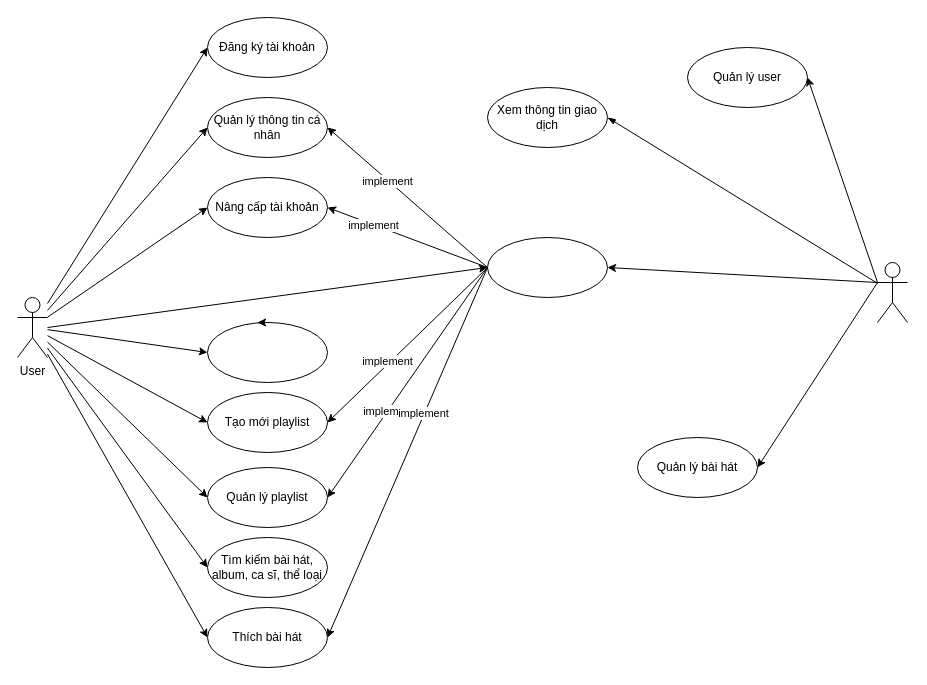
Some shapes in this 927 by 685 pixel diagram are drawn without their labels. The box of each missing label's shape, as (x1, y1, x2, y2) in pixels:
Admin: (876, 262, 908, 322)
Nghe nhạc: (206, 322, 328, 382)
Đăng nhập: (486, 236, 608, 298)
